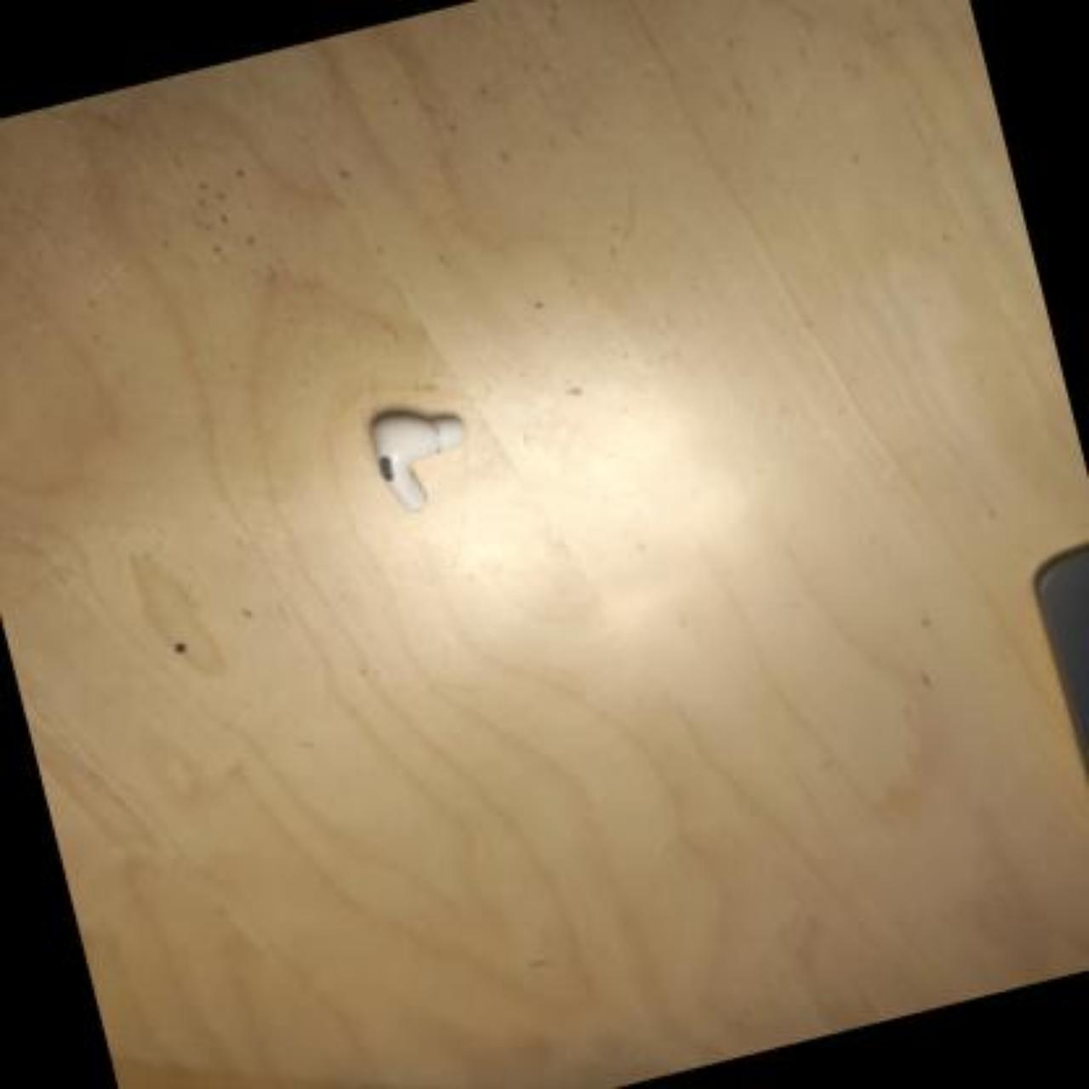Airpods_Units: (360, 397, 477, 517)
